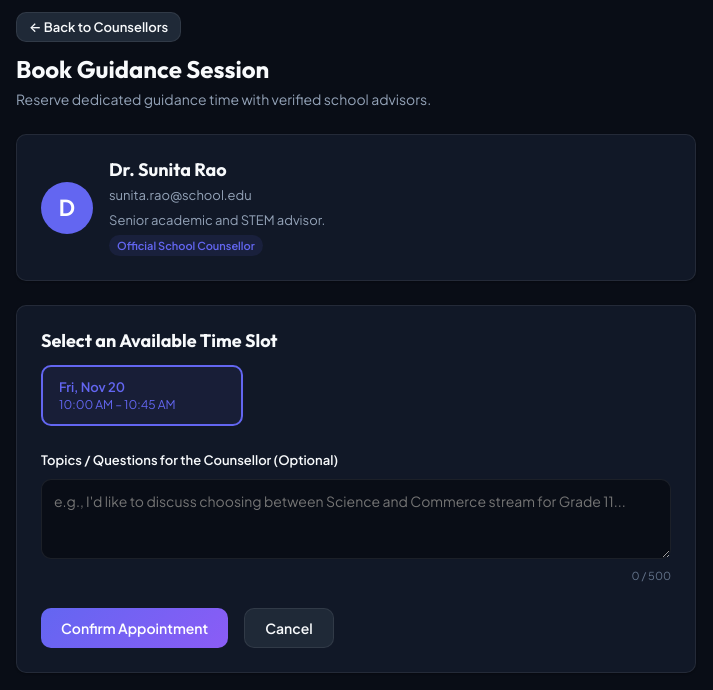
Test case: Student Counsellor Discovery and Booking Flow › renders counsellor booking page and books available slot
Expected: the heading "Dr. Sunita Rao" is shown, left=109, top=158, right=227, bottom=181
Expected: the heading "Select an Available Time Slot" is shown, left=41, top=329, right=278, bottom=352
# Enter discussion note
Replace the text in the text box labelled "Topics / Questions for the Counsellor (Optional)" with "Discuss STEM entrance options" at [356, 519], box left=41, top=479, right=671, bottom=559
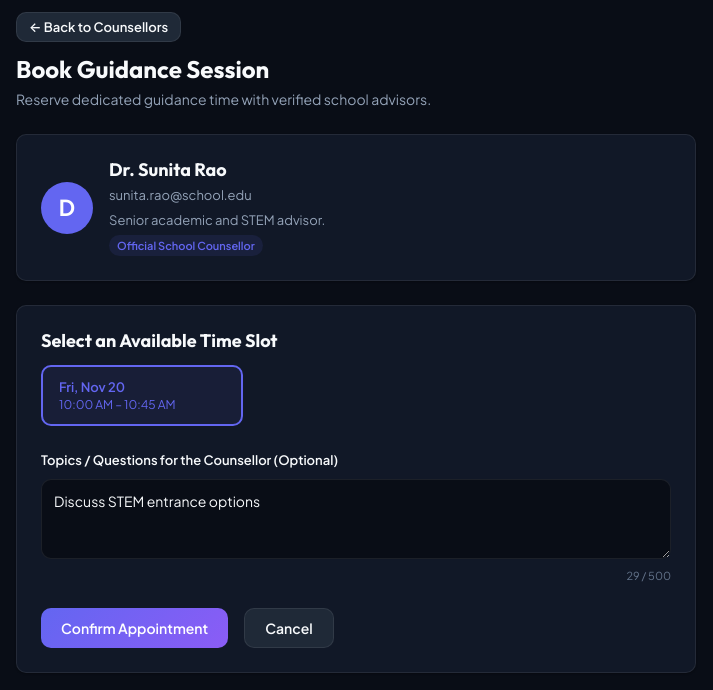
# Click confirm appointment
Click the button "Confirm Appointment" at [135, 628], box left=41, top=608, right=228, bottom=648
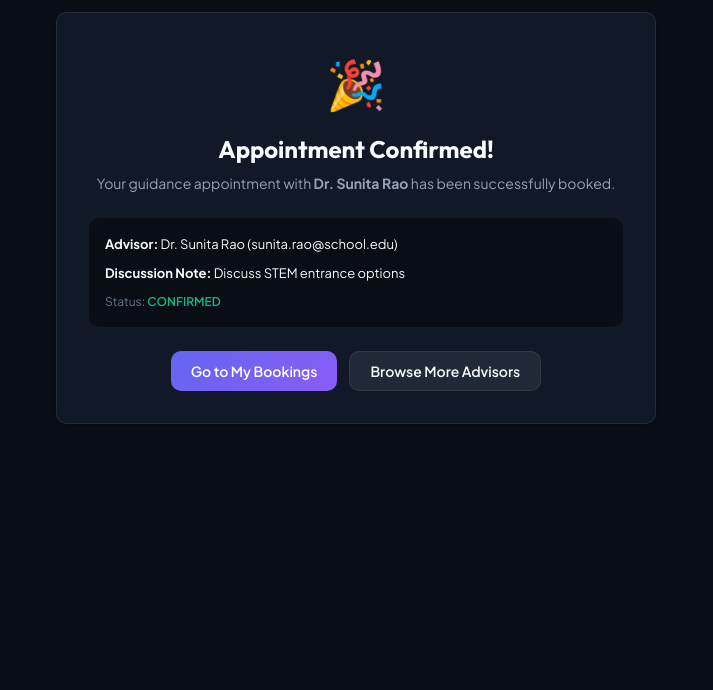
Now the heading "Appointment Confirmed!" is shown, box left=218, top=134, right=494, bottom=164
